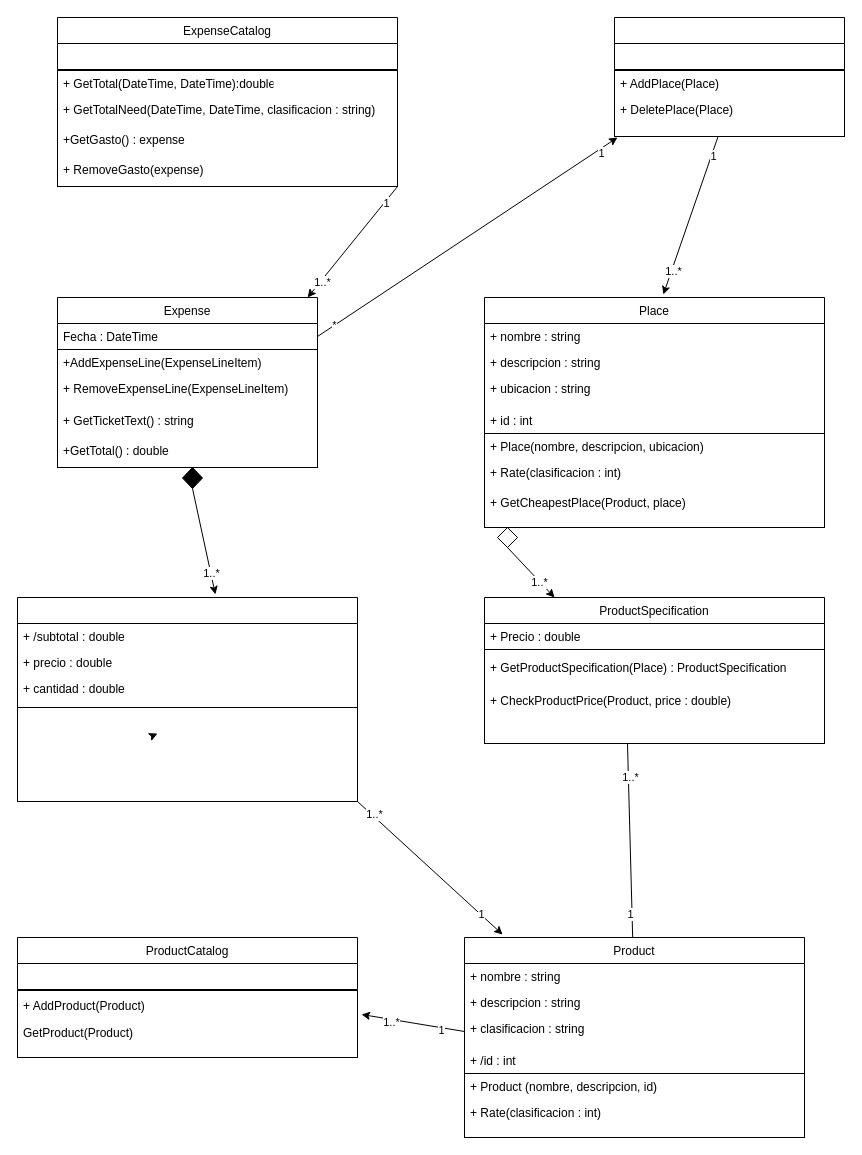
The diagram is 862 pixels wide and 1155 high, and some of its shapes have lost their labels. The shapes that lost their labels are listed below. From the top down, each one's box as (x1, y1, x2, y2) in pixels, then its label:
(614, 16, 844, 70): PlaceCatalog
(16, 596, 358, 802): ExpenseLine
(16, 706, 358, 802): + GetExpenseTezt() : string
